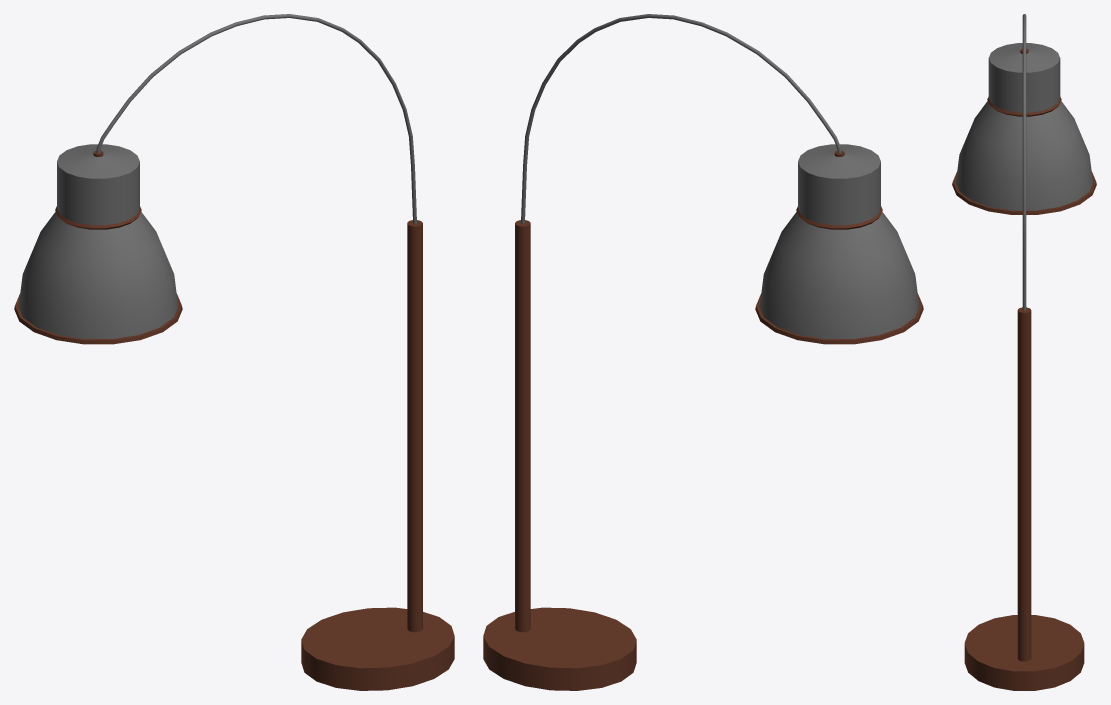
The model's file is HangStaLamp (1).fbx.
The picture shows the model from 3 angles, left to right: view 1: azimuth 30°, elevation 25°; view 2: azimuth 150°, elevation 25°; view 3: azimuth 270°, elevation 25°; orthographic projection. The views are drawn at different scales.
Parts seen in each view (by area): view 1: StaLamp; view 2: StaLamp; view 3: StaLamp.
Part boxes in pixels (x1,y1,x2,y2): StaLamp: [14, 14, 454, 690]; StaLamp: [483, 14, 923, 690]; StaLamp: [952, 14, 1096, 690].
Size of the model in its own units: 213 by 327 by 74.26.
